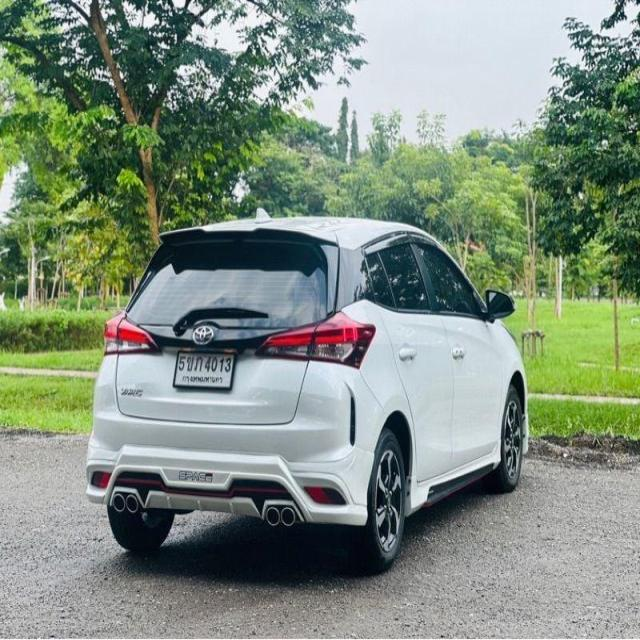Hatchback: (84, 212, 531, 577)
